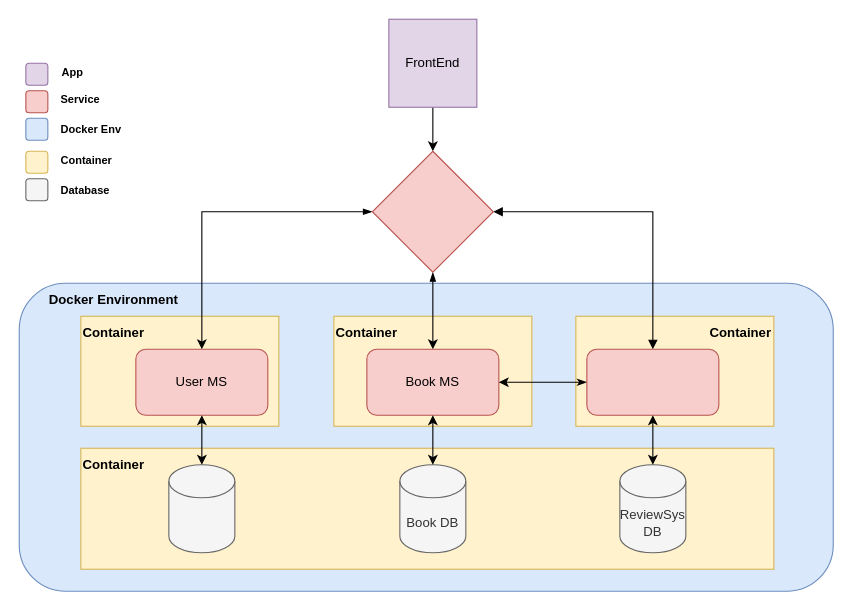
This 853x611 diagram has some shape labels left out. The shapes that lost their labels are listed below. From the top down, each one's centre as x and y in pixels, then its label:
At (x=432, y=211): "API Gateway".
At (x=652, y=381): "ReviewSystem MS".
At (x=201, y=508): "UsersDB".
